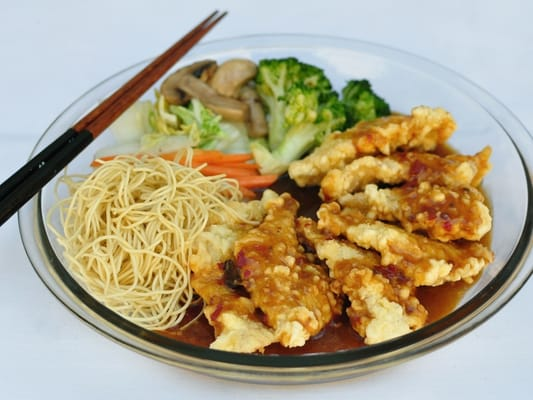burger: (1, 9, 229, 231)
curry: (249, 58, 391, 174), (146, 95, 225, 150)
sushi: (13, 106, 522, 392)
